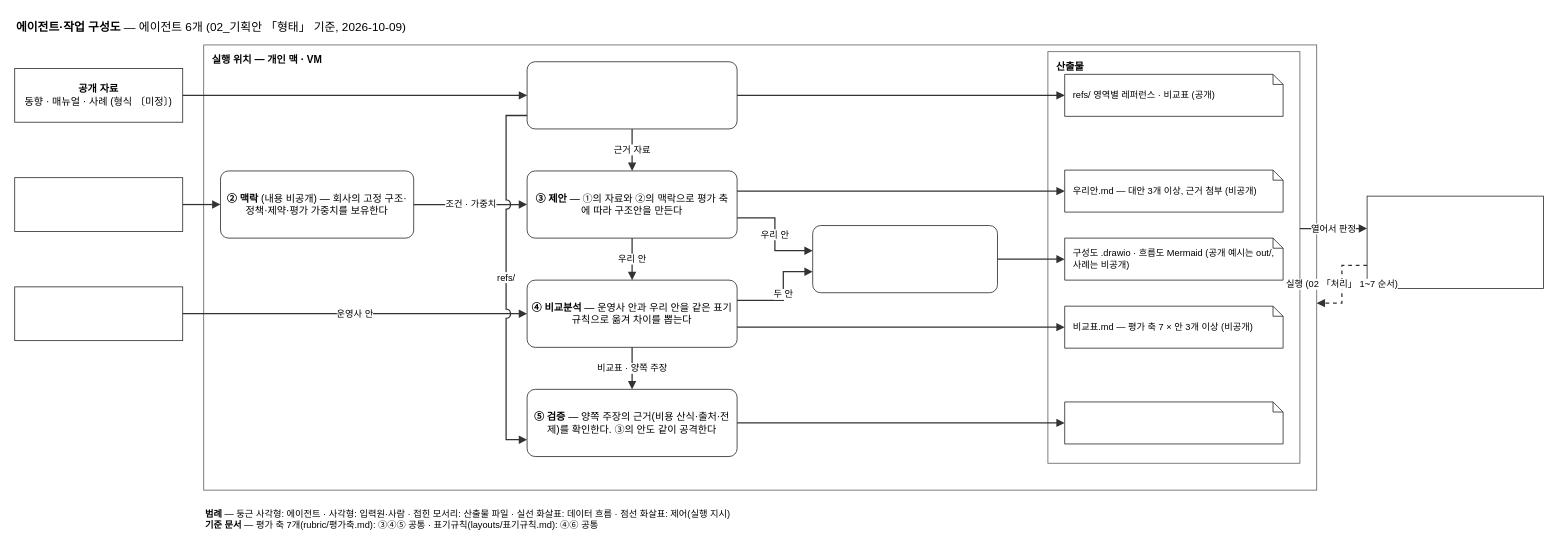
Image size: 1558x554. Some labels were removed from this diagram. Here are the shapes that lost their labels. From the top down, the centre of each, then its label:
pixel 631 95: ① 동향 수집 — 영역별 동향·사례를 모으고 출처·날짜·신뢰도를 붙인다
pixel 98 204: 회사 맥락 일반화한 텍스트 · 실제 값 제외
pixel 905 259: ⑥ 작도 — 표기규칙에 맞춰 구성도(draw.io)와 흐름도(Mermaid)를 그린다
pixel 1455 242: 사람 실행 지시 · 최종 판정 (데이터 정책 축 포함) · 결과물을 회사 PC로 가져가 협의
pixel 98 313: 운영사 안 일반화한 텍스트 (구성요소 · 연결 관계)
pixel 1173 422: 검증.md — 주장 판정 · 운영사 질문 목록 (비공개)
